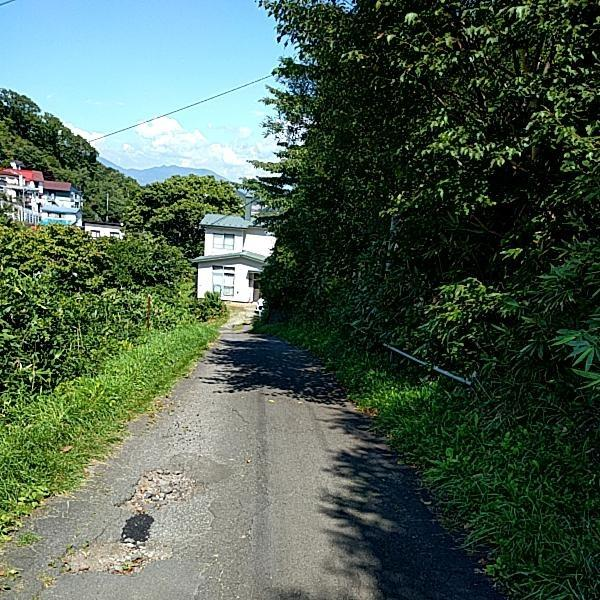pothole: (67, 538, 175, 575), (112, 471, 192, 512)
